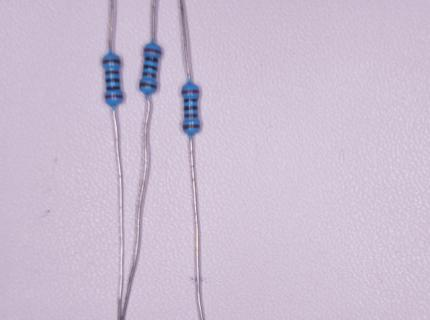Black band: (144, 65, 157, 71), (184, 105, 198, 110), (145, 57, 158, 62), (106, 78, 120, 82), (107, 86, 120, 90), (184, 99, 198, 102)
Brown band: (139, 82, 157, 88), (103, 59, 121, 64), (183, 124, 200, 129), (143, 72, 156, 78), (105, 70, 120, 74), (185, 114, 198, 118)
Red band: (144, 48, 161, 54), (105, 94, 123, 99), (182, 89, 199, 94)
